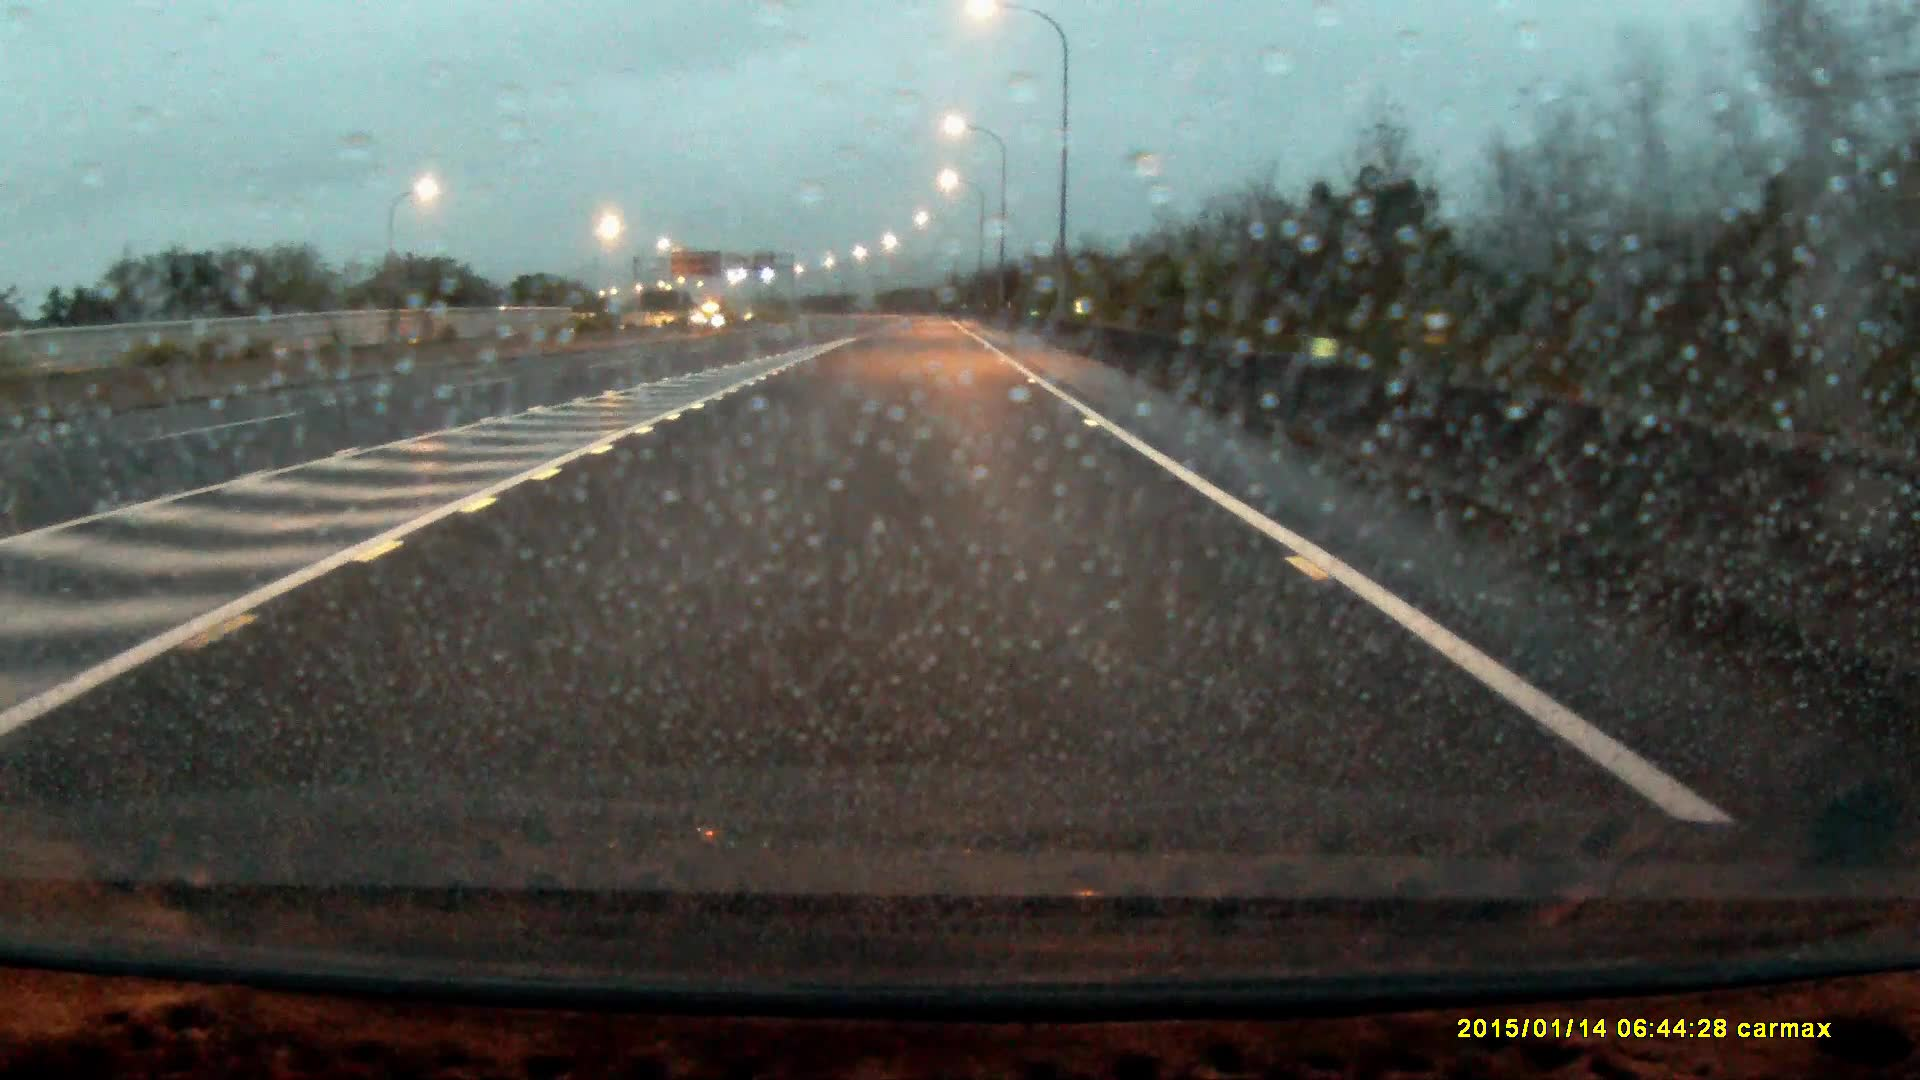vehicle: (698, 301, 729, 326)
